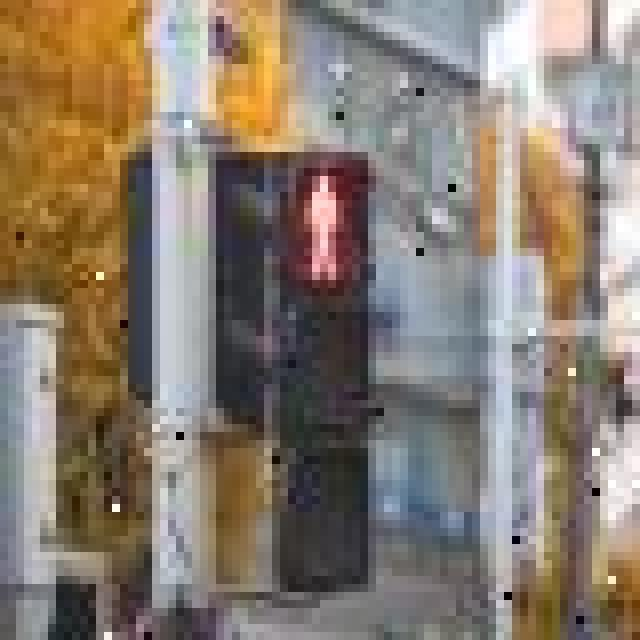redlight: (256, 144, 384, 440)
